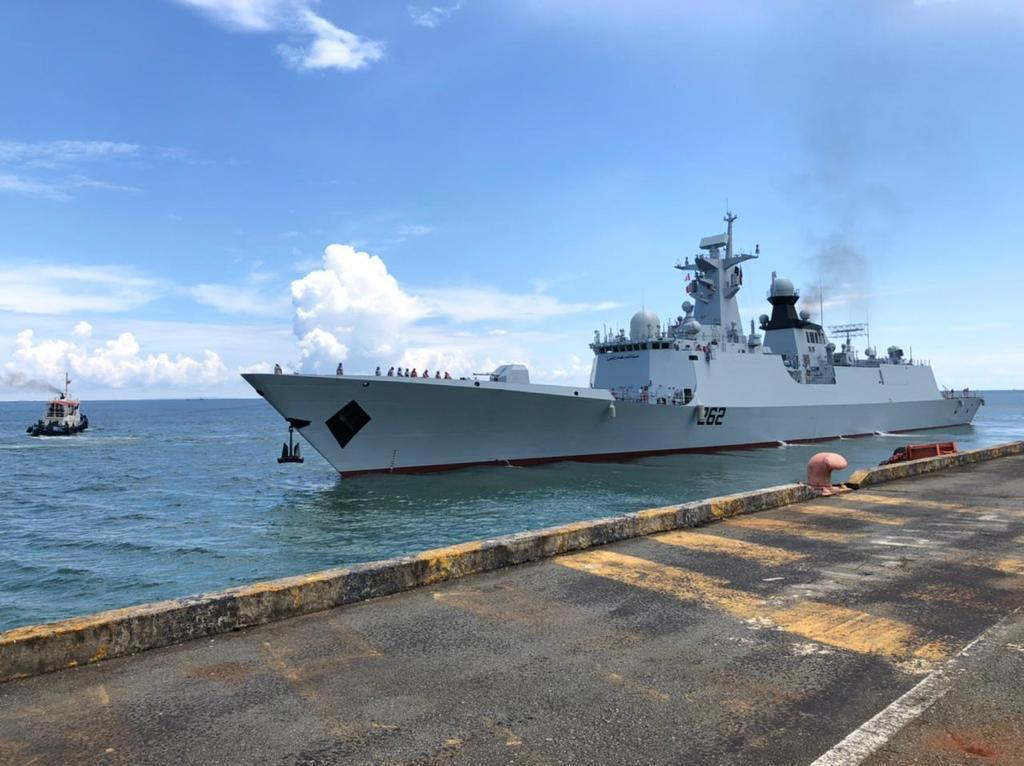Warship: (240, 208, 982, 478)
